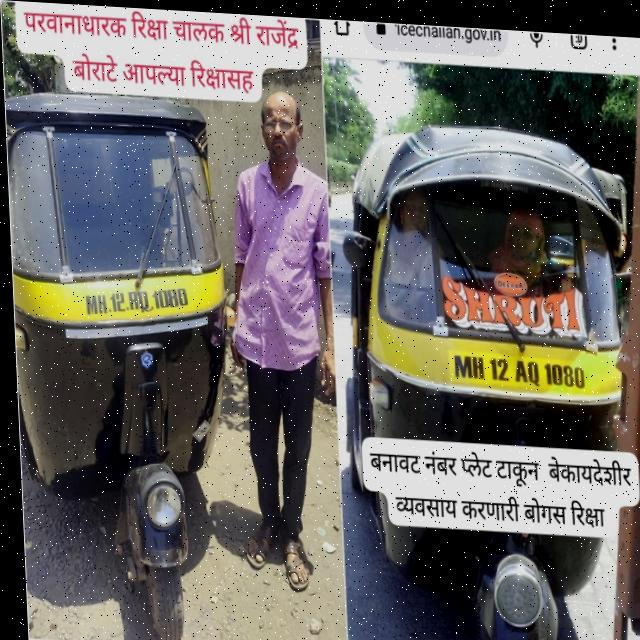plate: (441, 338, 591, 395), (75, 272, 191, 327)
